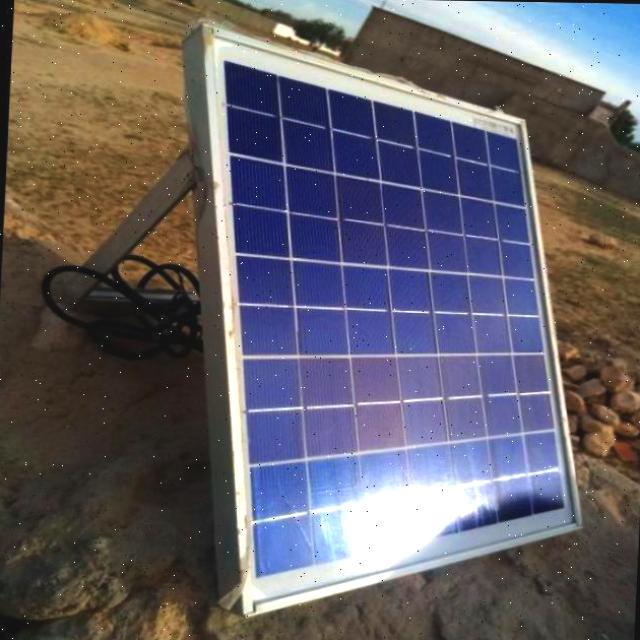Normal Solar Panel: (177, 32, 603, 620)
